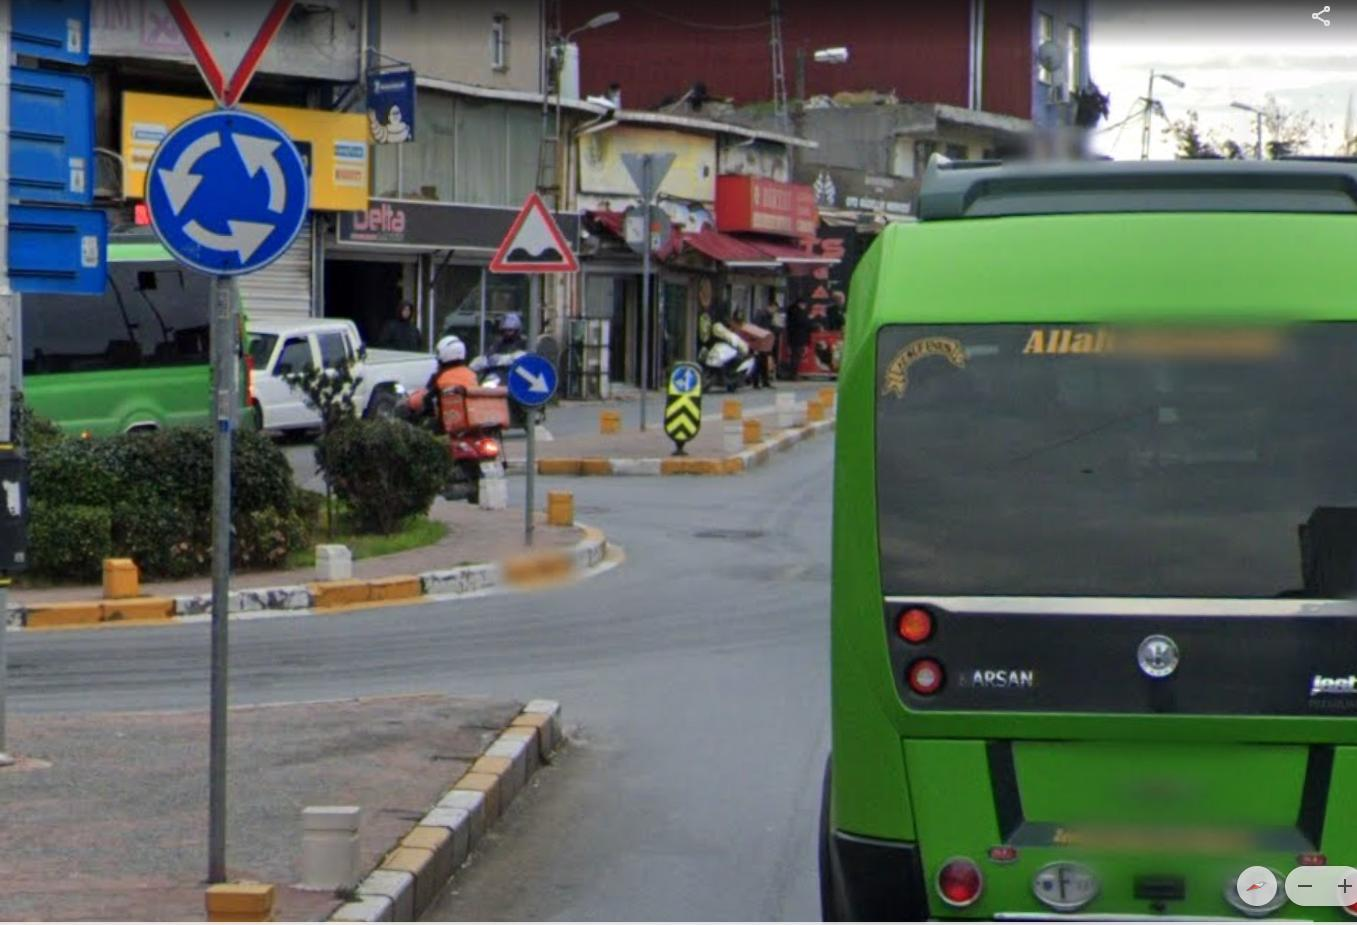crossroads: (139, 111, 312, 267)
